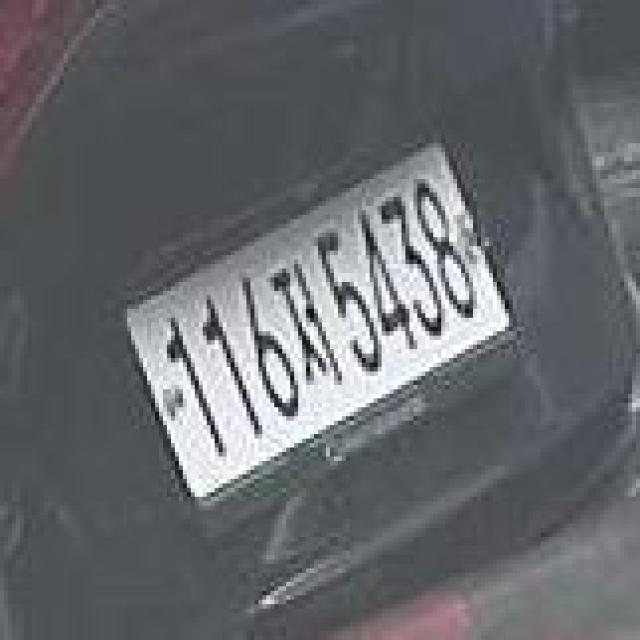illegal_plate: (138, 143, 526, 514)
